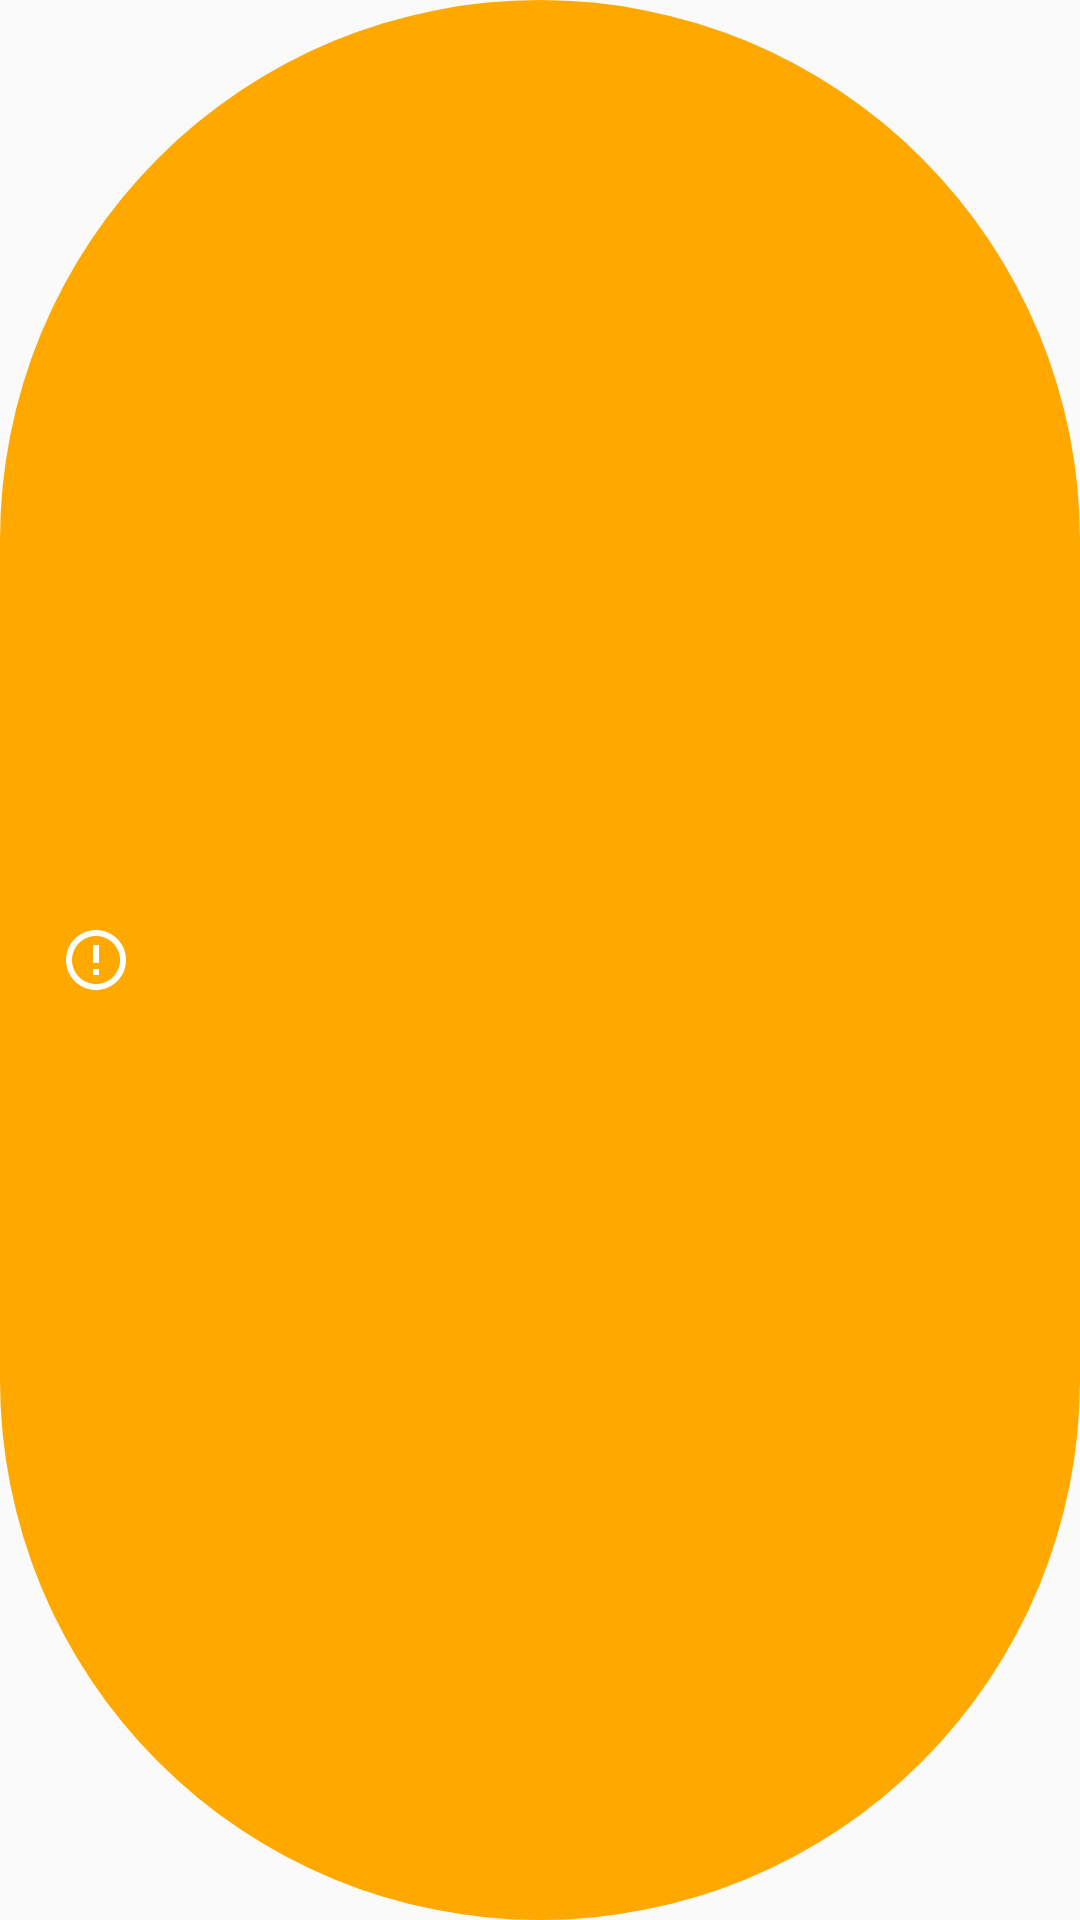

Screen size 1080w x 1920h. Icon name, then its box in pixels as (x1,y1,x2,y2):
toast warn: (66,930,126,990)
